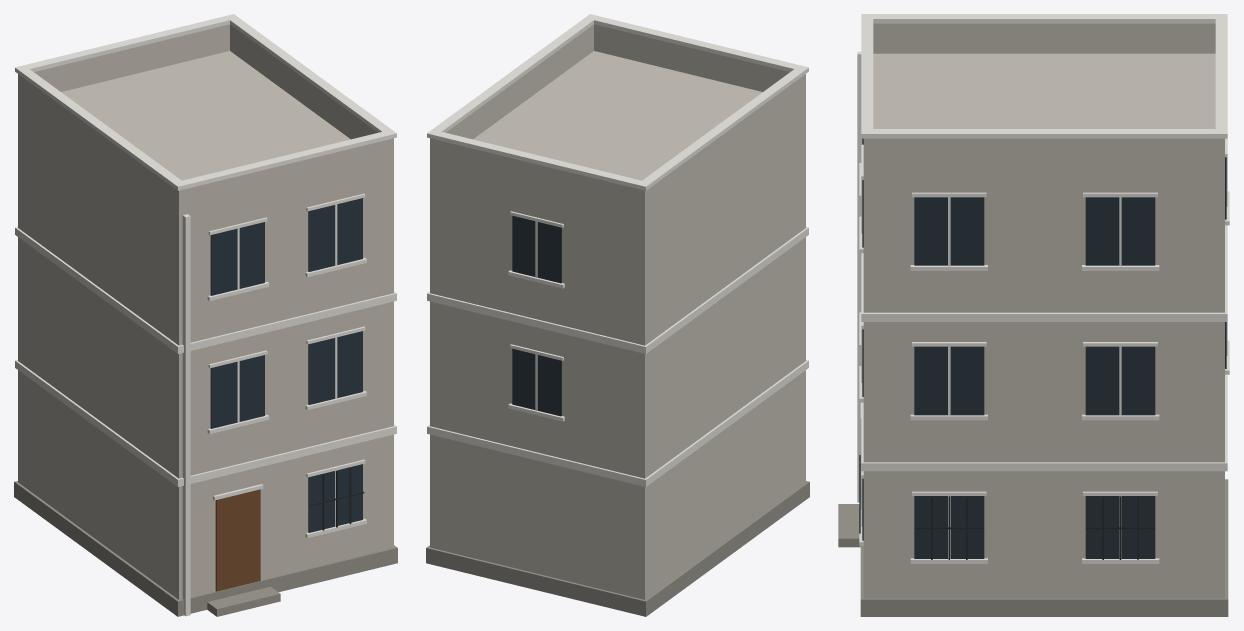
File: BAY_F_Corner_Q.glb
3 views of the same model, side by side, from view 1: azimuth 30°, elevation 25°; view 2: azimuth 150°, elevation 25°; view 3: azimuth 270°, elevation 25° (orthographic). The views are drawn at different scales.
Visible parts, largest first — view 1: BAY_F_Corner_Q; view 2: BAY_F_Corner_Q; view 3: BAY_F_Corner_Q.
Boxes of the visible parts, x1=… form: BAY_F_Corner_Q: x1=14, y1=14, x2=397, y2=616; BAY_F_Corner_Q: x1=426, y1=14, x2=809, y2=616; BAY_F_Corner_Q: x1=838, y1=14, x2=1229, y2=616.
Size of the model in its own units: 4.52 by 8.4 by 6.17.
Materials: 1 (1 with a texture image).
